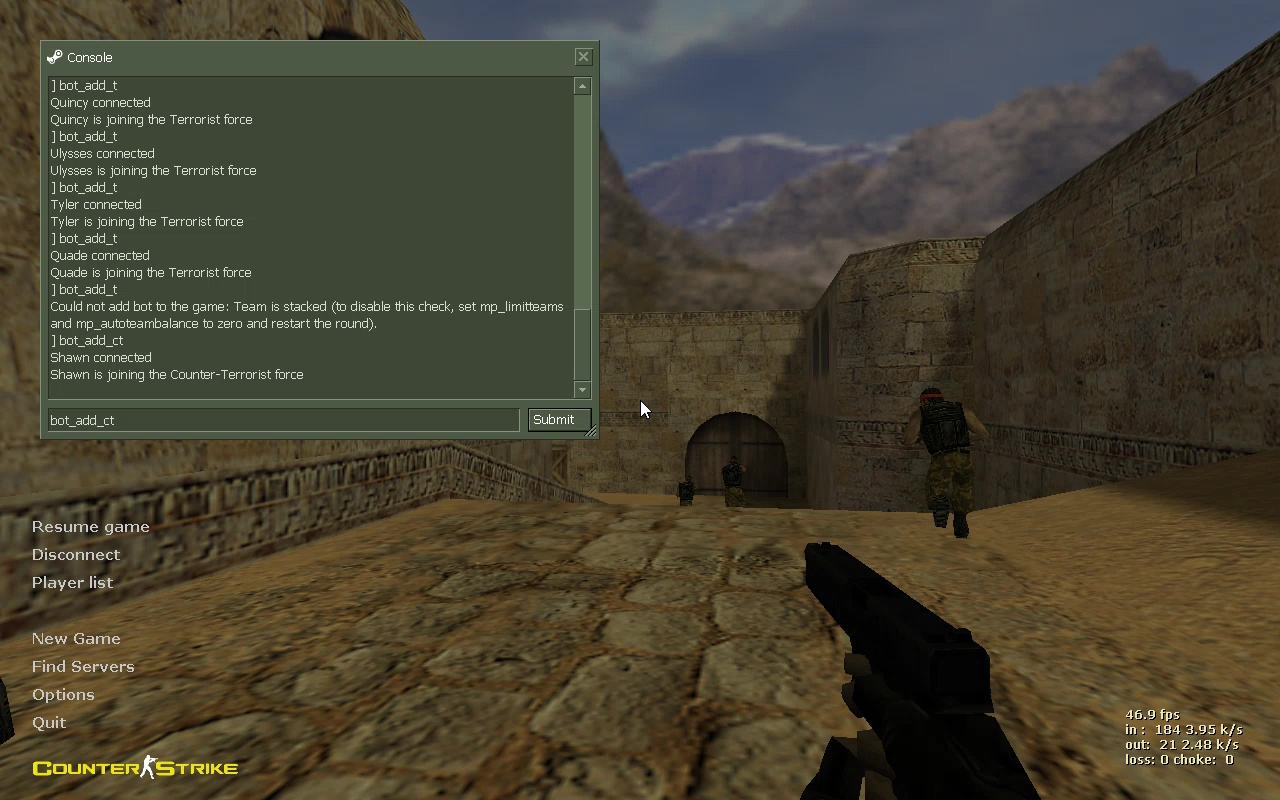terr1: (902, 387, 991, 539), (719, 458, 748, 513), (677, 479, 696, 505)
